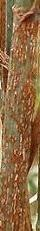Wheat: (2, 121, 33, 186), (2, 185, 31, 231)
